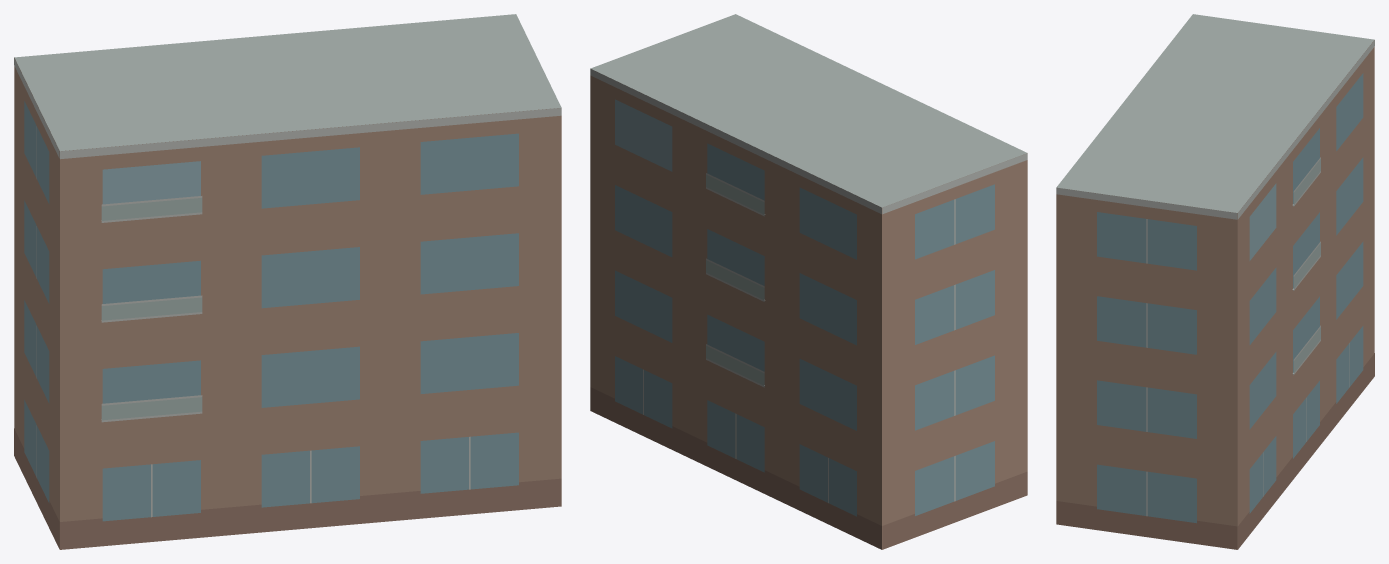
File: residential-5bb55f10-7704-4e5a-a251-6c894a9491f3.glb
3 renders of one model, left to right at view 1: azimuth 30°, elevation 25°; view 2: azimuth 150°, elevation 25°; view 3: azimuth 270°, elevation 25°, orthographic. The views are drawn at different scales.
Parts seen in each view (by area): view 1: residential-5bb55f10-7704-4e5a-a251-6c894a9491f3.tmp; view 2: residential-5bb55f10-7704-4e5a-a251-6c894a9491f3.tmp; view 3: residential-5bb55f10-7704-4e5a-a251-6c894a9491f3.tmp.
Boxes of the visible parts, x1,y1,x2,y2 form: residential-5bb55f10-7704-4e5a-a251-6c894a9491f3.tmp: (14,14,561,549); residential-5bb55f10-7704-4e5a-a251-6c894a9491f3.tmp: (590,14,1027,549); residential-5bb55f10-7704-4e5a-a251-6c894a9491f3.tmp: (1056,14,1374,549).
Size of the model in its own units: 15.47 by 12.2 by 10.46.
